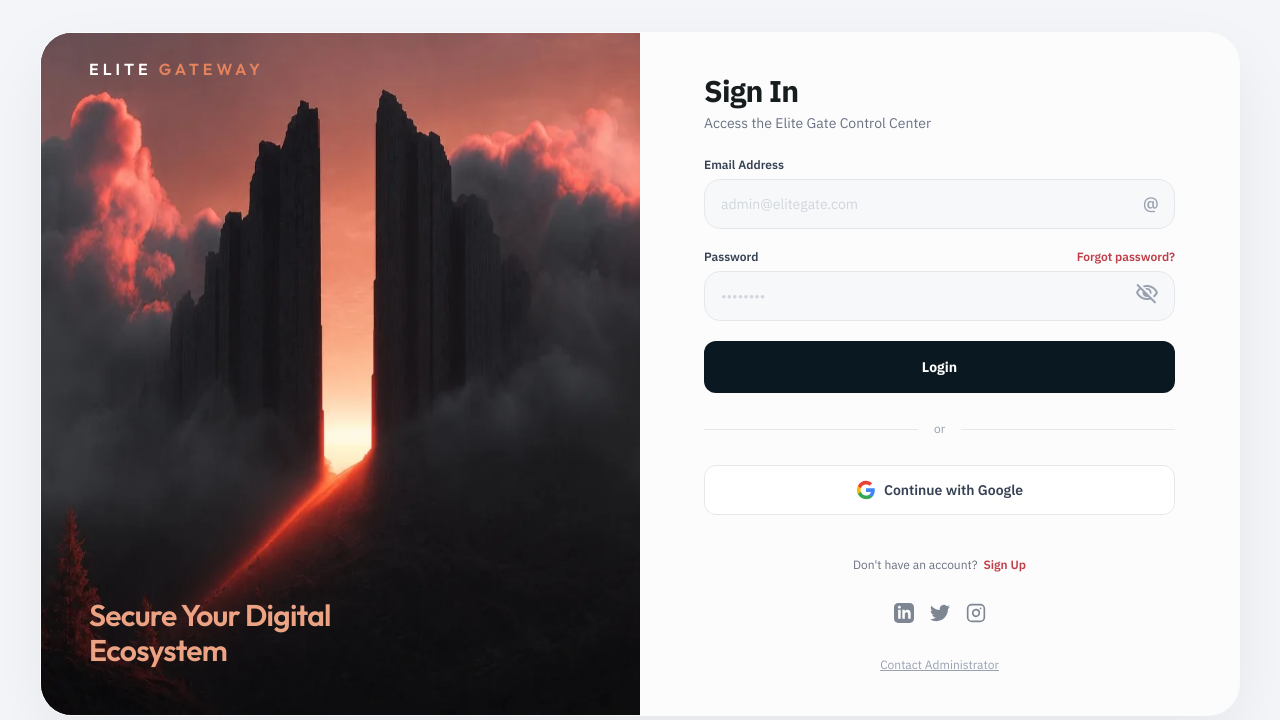
Test case: LoginPage Glassmorphism UI & Form Functionality › allows toggling between Sign In and Sign Up onboard forms seamlessly
The width and height of the screenshot is (1280, 720).
Step 1. Click the button "Sign Up" → (1005, 565), box [983, 557, 1026, 573]
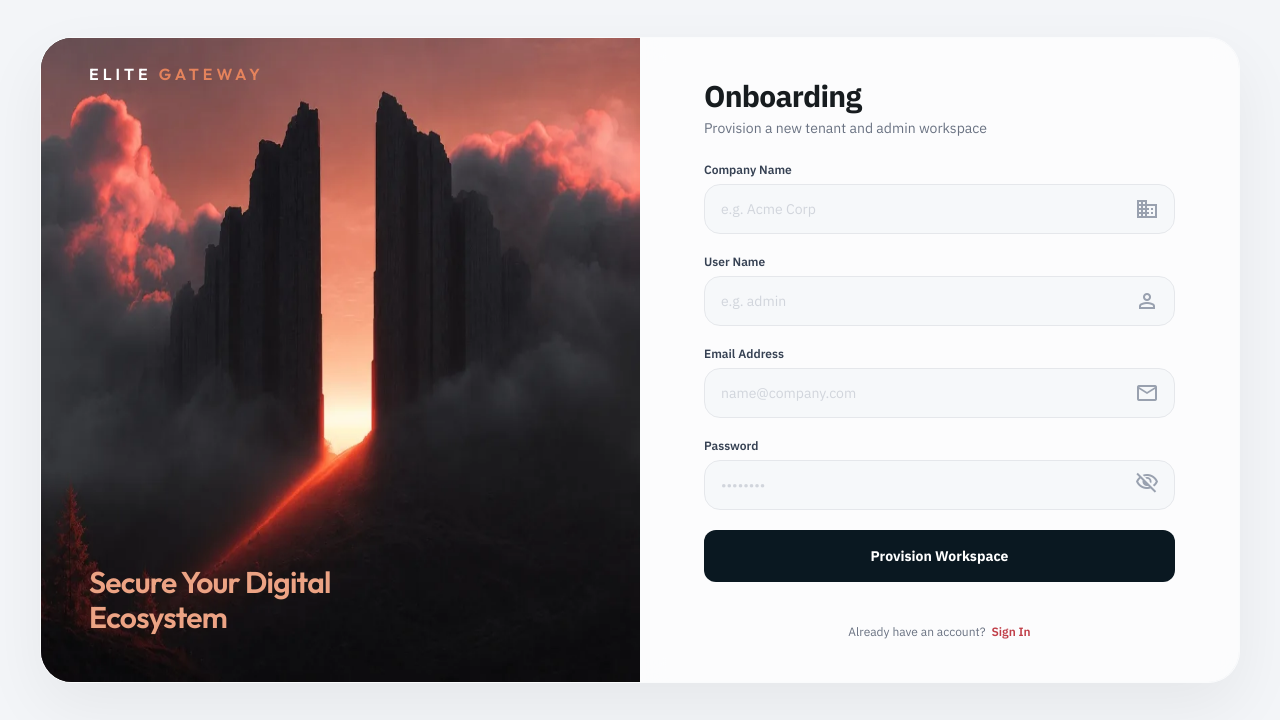
Result: the heading "Onboarding" is shown at [704, 76, 861, 115]
Step 2. Click the button "Sign In" → (1011, 632), box [992, 624, 1031, 640]
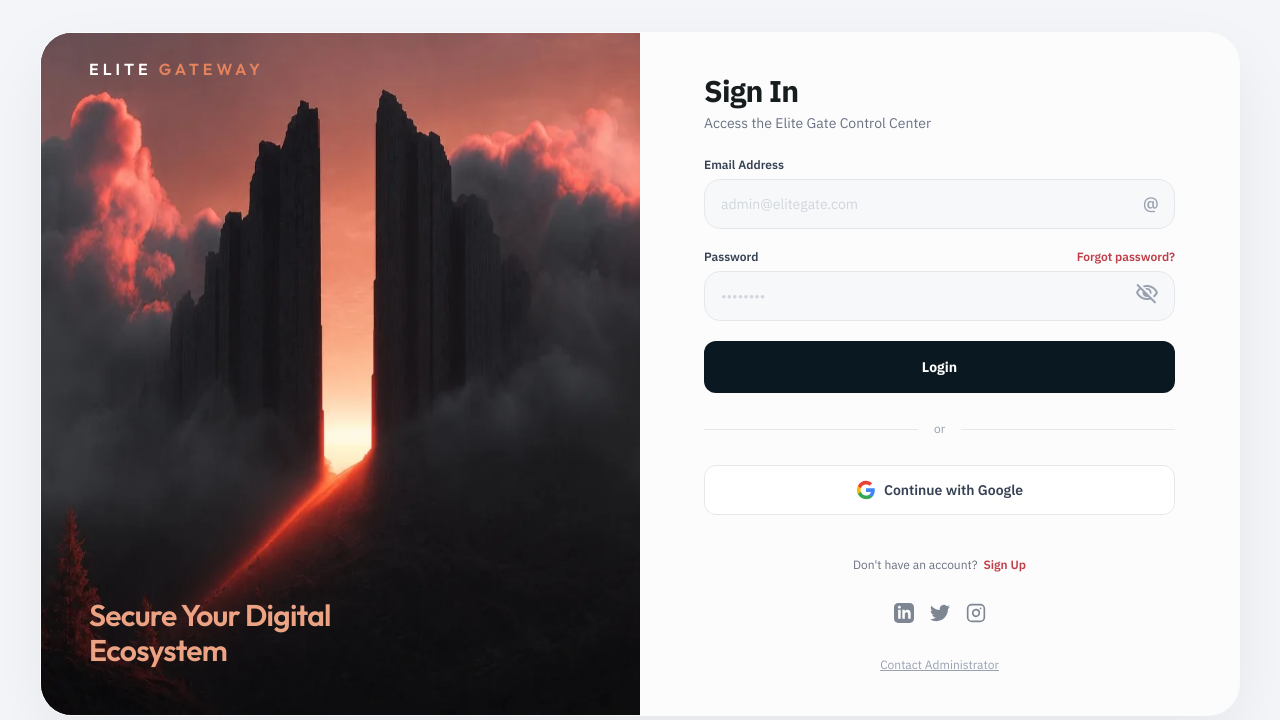
Result: the heading "Sign In" is shown at [704, 71, 798, 110]
